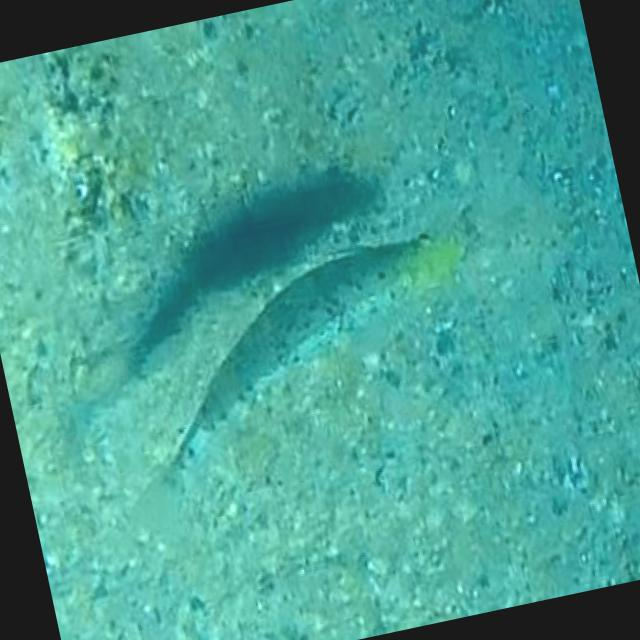Sokar Baligi: (55, 210, 535, 570)
